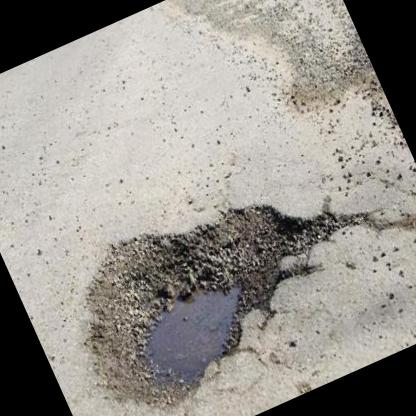pothole: (47, 156, 370, 416)
